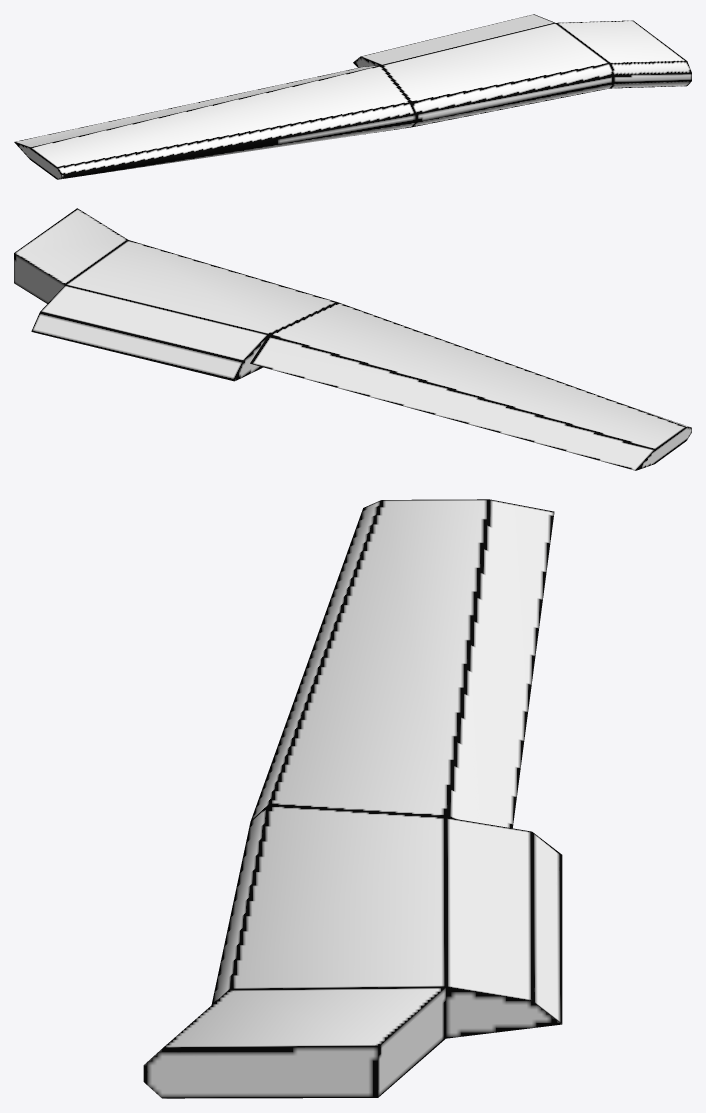
File: flügelgr.obj
3 renders of one model, top to bottom at view 1: azimuth 30°, elevation 25°; view 2: azimuth 150°, elevation 25°; view 3: azimuth 270°, elevation 25°, orthographic. The views are drawn at different scales.
Visible parts, largest first — view 1: cube1_sep132; view 2: cube1_sep132; view 3: cube1_sep132.
Part boxes in pixels (x1,y1,x2,y2): cube1_sep132: [14, 14, 691, 179]; cube1_sep132: [14, 208, 691, 470]; cube1_sep132: [143, 499, 562, 1098].
Bounding box in the file's own units: 25.56 × 1.11 × 8.06.
